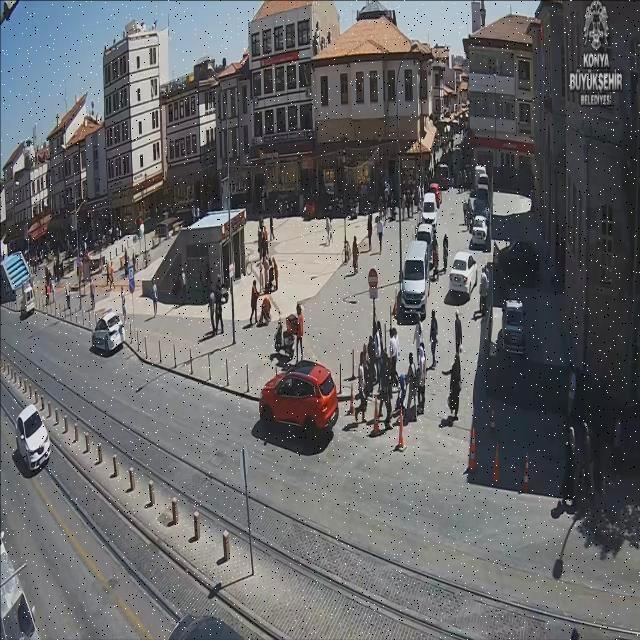Car: (258, 360, 339, 432), (16, 406, 52, 475), (91, 310, 126, 355), (501, 300, 527, 353), (448, 251, 478, 294), (499, 239, 540, 269), (470, 215, 489, 247), (421, 193, 438, 226), (415, 223, 434, 252), (473, 191, 489, 216), (429, 183, 442, 206)
Van: (398, 242, 431, 318), (20, 285, 36, 319)
